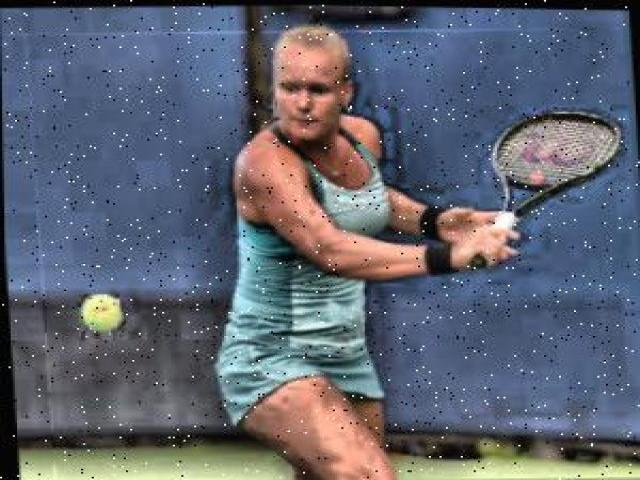tennis-ball: (81, 294, 123, 331)
